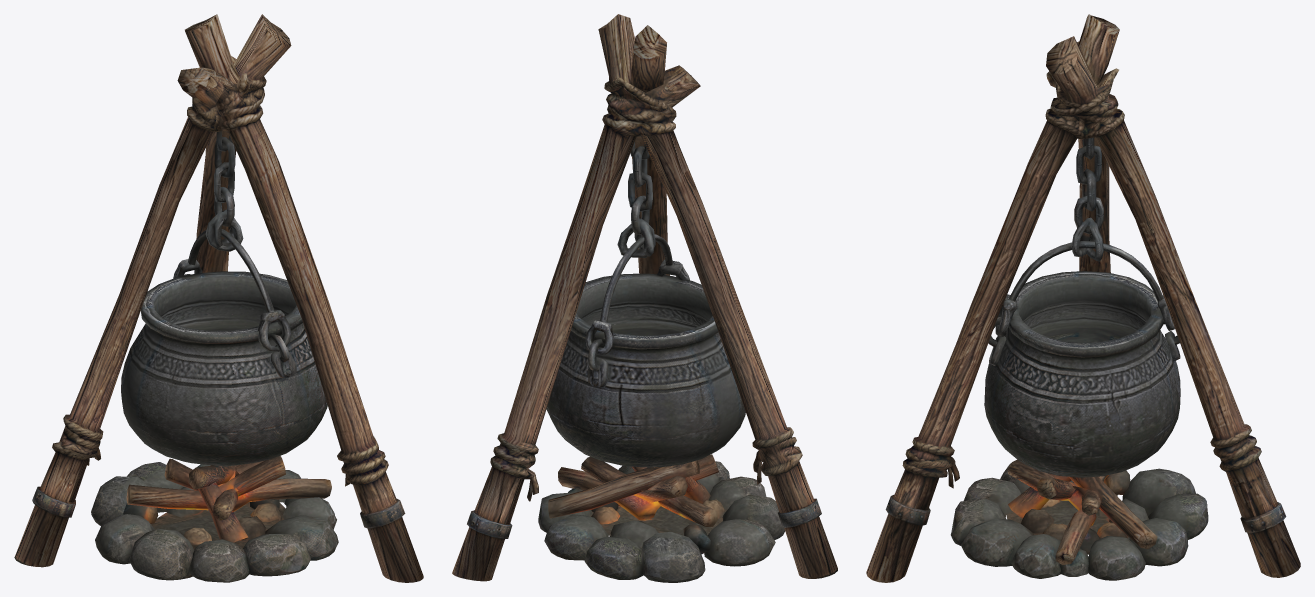
File: SM_Env_HeorotHangingCauldron.fbx
3 renders of one model, left to right at view 1: azimuth 30°, elevation 25°; view 2: azimuth 150°, elevation 25°; view 3: azimuth 270°, elevation 25°, orthographic. The views are drawn at different scales.
Parts seen in each view (by area): view 1: SM_Env_HeorotHangingCauldron; view 2: SM_Env_HeorotHangingCauldron; view 3: SM_Env_HeorotHangingCauldron.
Boxes of the visible parts, x1,y1,x2,y2 form: SM_Env_HeorotHangingCauldron: [14, 14, 423, 582]; SM_Env_HeorotHangingCauldron: [452, 14, 837, 582]; SM_Env_HeorotHangingCauldron: [866, 14, 1300, 582].
Size of the model in its own units: 27.11 by 33.7 by 45.
1 material, 1 textured.
